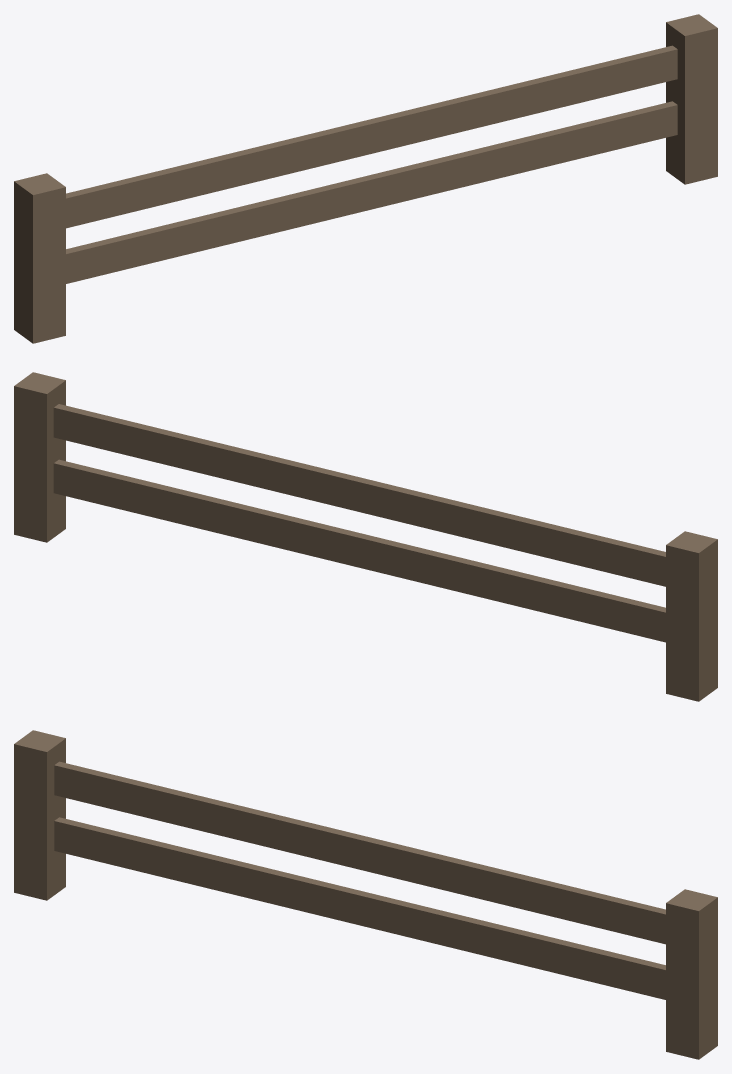
Rendered from Fence_Long.gltf.
The picture shows the model from 3 angles, top to bottom: view 1: azimuth 30°, elevation 25°; view 2: azimuth 150°, elevation 25°; view 3: azimuth 330°, elevation 25°; orthographic projection.
Visible parts, largest first — view 1: SF_Prop_Fence_Long_01; view 2: SF_Prop_Fence_Long_01; view 3: SF_Prop_Fence_Long_01.
Part boxes in pixels (box(x1,y1,x2,y2)): SF_Prop_Fence_Long_01: box(14, 14, 717, 343); SF_Prop_Fence_Long_01: box(14, 372, 717, 701); SF_Prop_Fence_Long_01: box(14, 730, 717, 1059).
Size of the model in its own units: 0.1067 by 0.0221 by 0.00515.
1 material, 1 textured.
